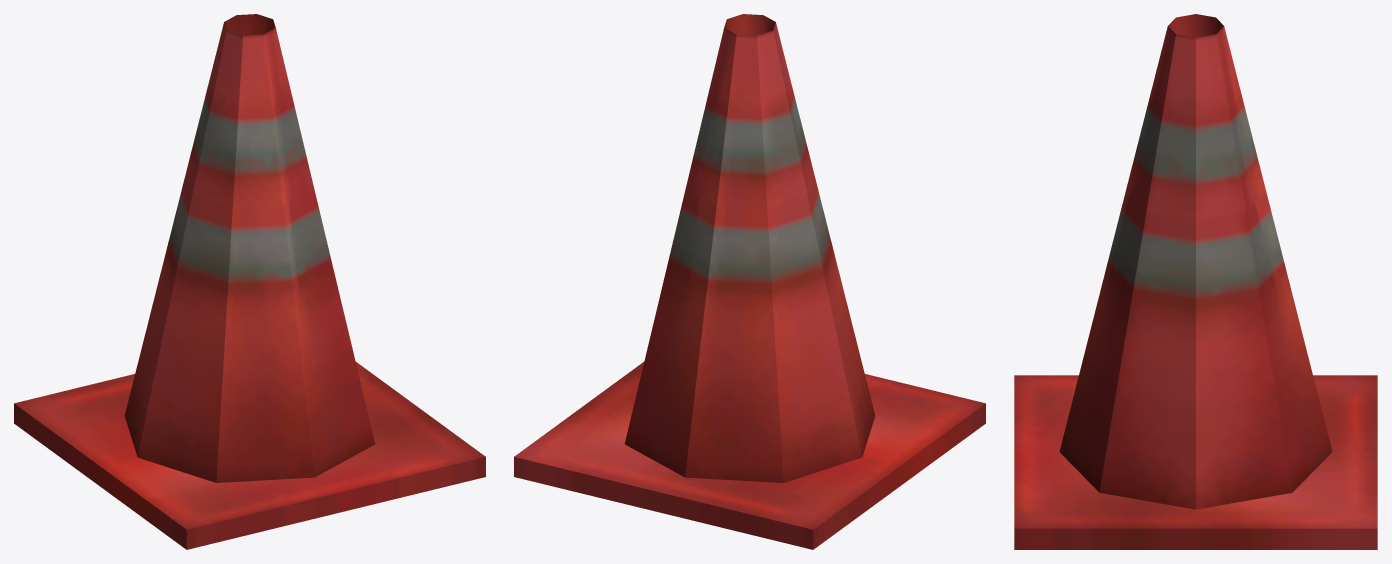
File: oscone.fbx
3 renders of one model, left to right at view 1: azimuth 30°, elevation 25°; view 2: azimuth 150°, elevation 25°; view 3: azimuth 270°, elevation 25°, orthographic. The views are drawn at different scales.
Parts seen in each view (by area): view 1: mesh_0, mesh_1; view 2: mesh_0, mesh_1; view 3: mesh_0, mesh_1.
Part boxes in pixels (box(x1,y1,x2,y2)): mesh_0: box(124, 14, 375, 482); mesh_1: box(14, 362, 485, 549); mesh_0: box(624, 14, 875, 482); mesh_1: box(514, 362, 985, 549); mesh_0: box(1059, 14, 1332, 509); mesh_1: box(1014, 375, 1377, 549).
Size of the model in its own units: 38.65 by 52.51 by 38.65.
Materials: 2 (2 with a texture image).
